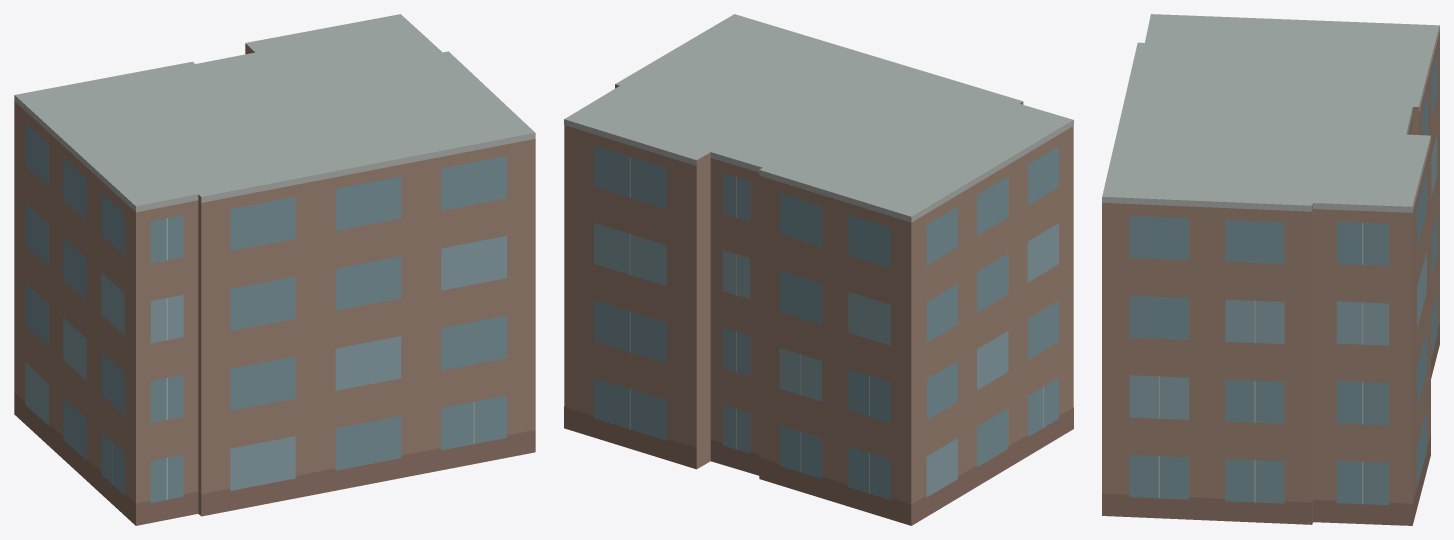
The model's file is survey-upis-33040298.glb.
3 views of the same model, side by side, from view 1: azimuth 30°, elevation 25°; view 2: azimuth 150°, elevation 25°; view 3: azimuth 270°, elevation 25° (orthographic). The views are drawn at different scales.
Visible parts, largest first — view 1: survey-upis-33040298.tmp; view 2: survey-upis-33040298.tmp; view 3: survey-upis-33040298.tmp.
Boxes of the visible parts, x1,y1,x2,y2 form: survey-upis-33040298.tmp: [14, 14, 535, 525]; survey-upis-33040298.tmp: [564, 14, 1073, 525]; survey-upis-33040298.tmp: [1102, 14, 1439, 525].
Size of the model in its own units: 16.87 by 13 by 12.48.
